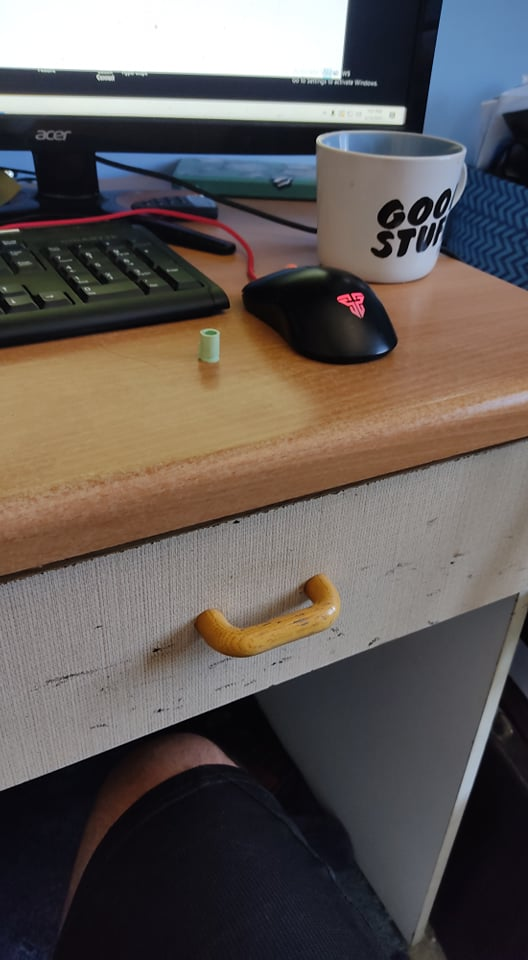green_bucking: (189, 321, 227, 370)
